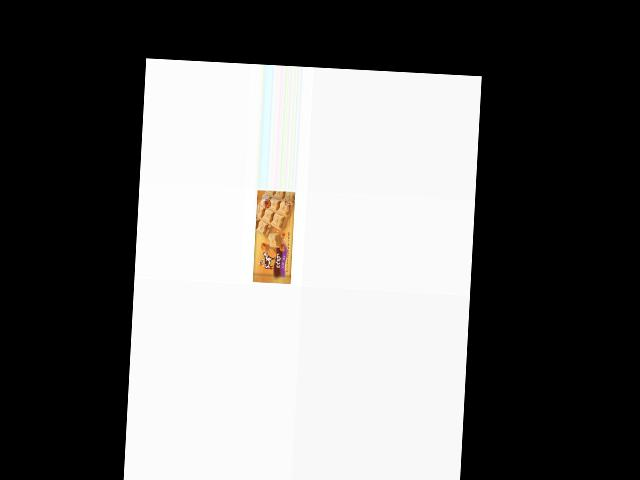chocolate: (252, 189, 298, 287)
